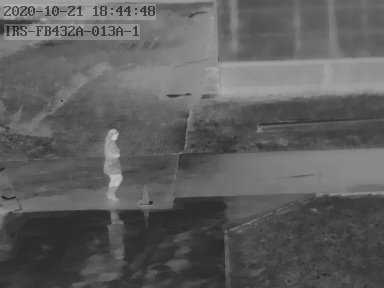person: (98, 127, 126, 203)
